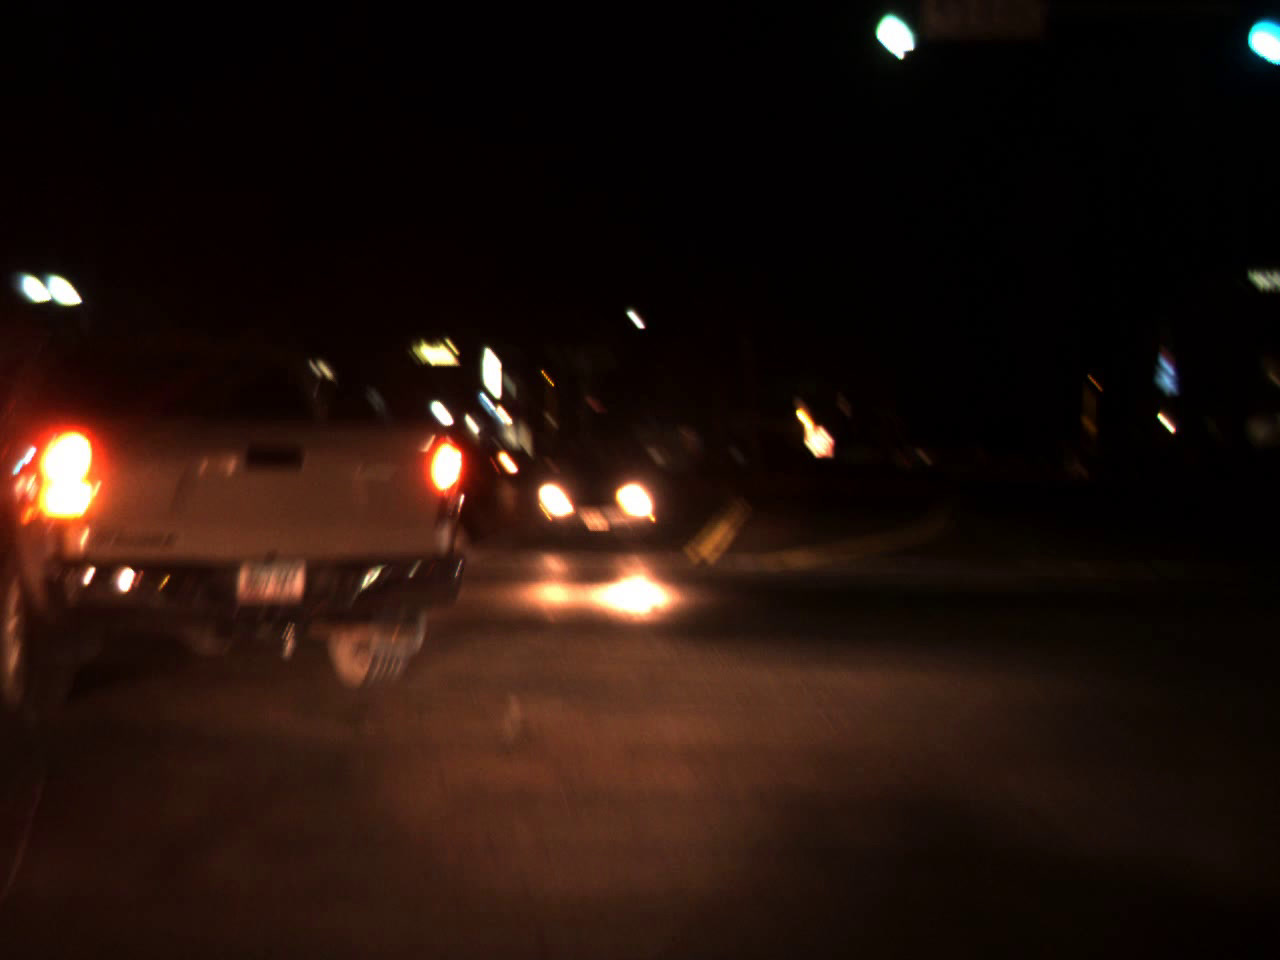go: (852, 0, 929, 77), (1238, 0, 1280, 74)
